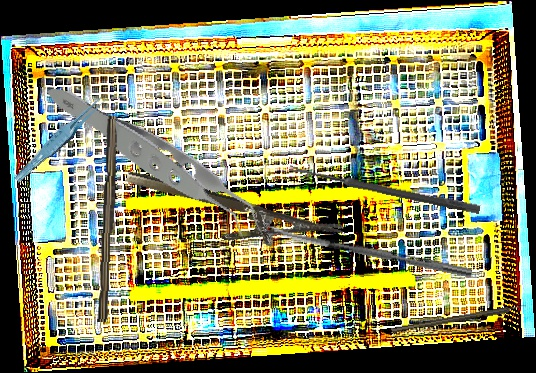Hook Surgical: (391, 303, 527, 334)
Needle Holder: (117, 168, 345, 269)
Scalpel Handle: (97, 115, 121, 323)
Surgical Spoon: (267, 224, 473, 278), (288, 163, 481, 215)
Tissue Forceps: (44, 31, 271, 301), (8, 92, 115, 184)
